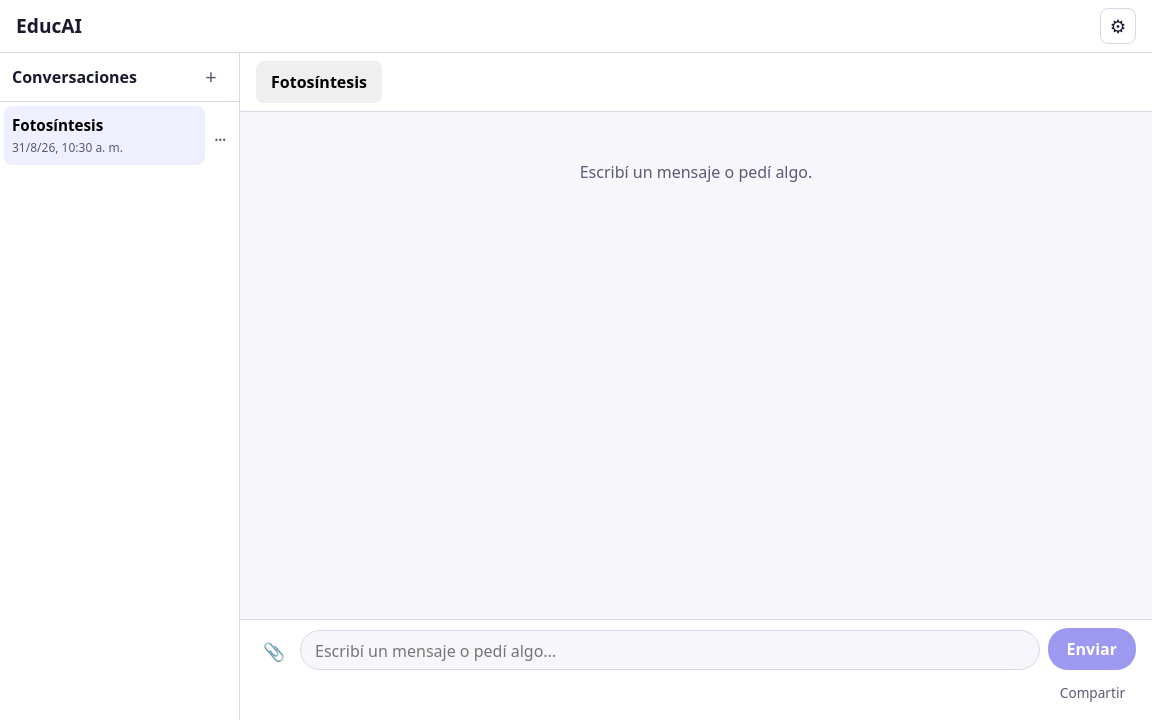
Test: App › shows the empty state after deleting the last conversation
The image size is (1152, 720).
Expected: the heading "Fotosíntesis" is shown, top-left (256, 61), bottom-right (382, 103)
Step 1. Click the button named "Opciones de conversación" → point(220, 135), box top-left (205, 121), bottom-right (235, 149)
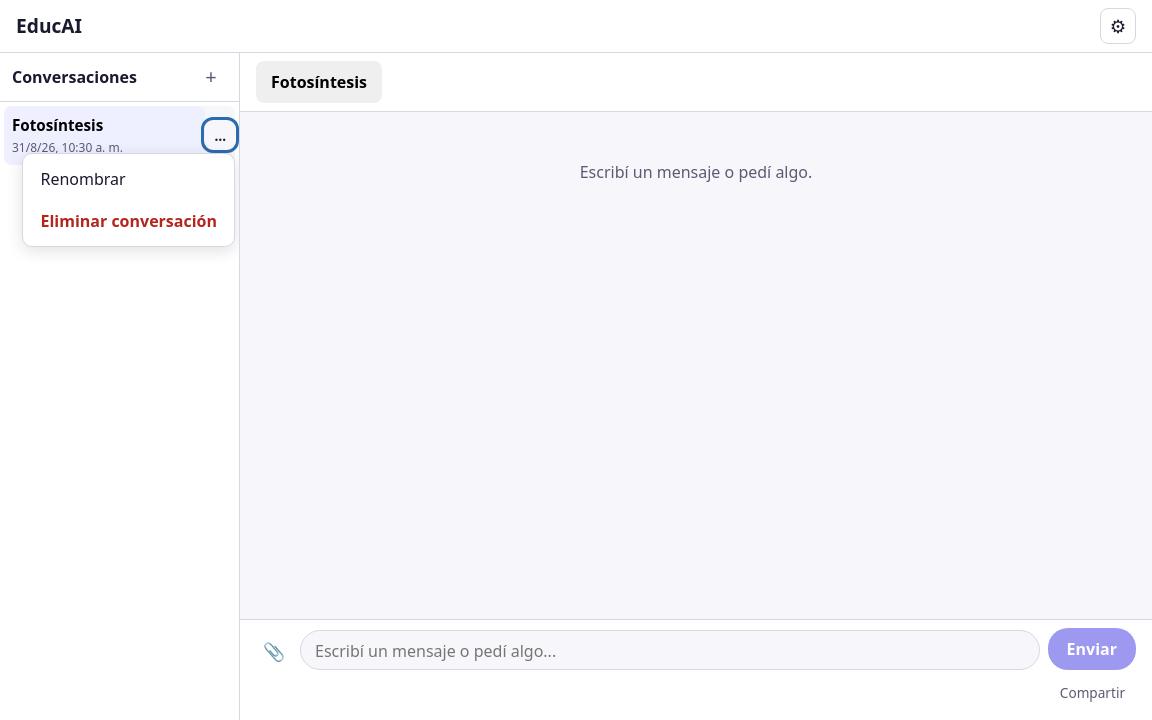
Step 2. Click the menu item "Eliminar conversación" → point(129, 221), box top-left (28, 200), bottom-right (230, 242)
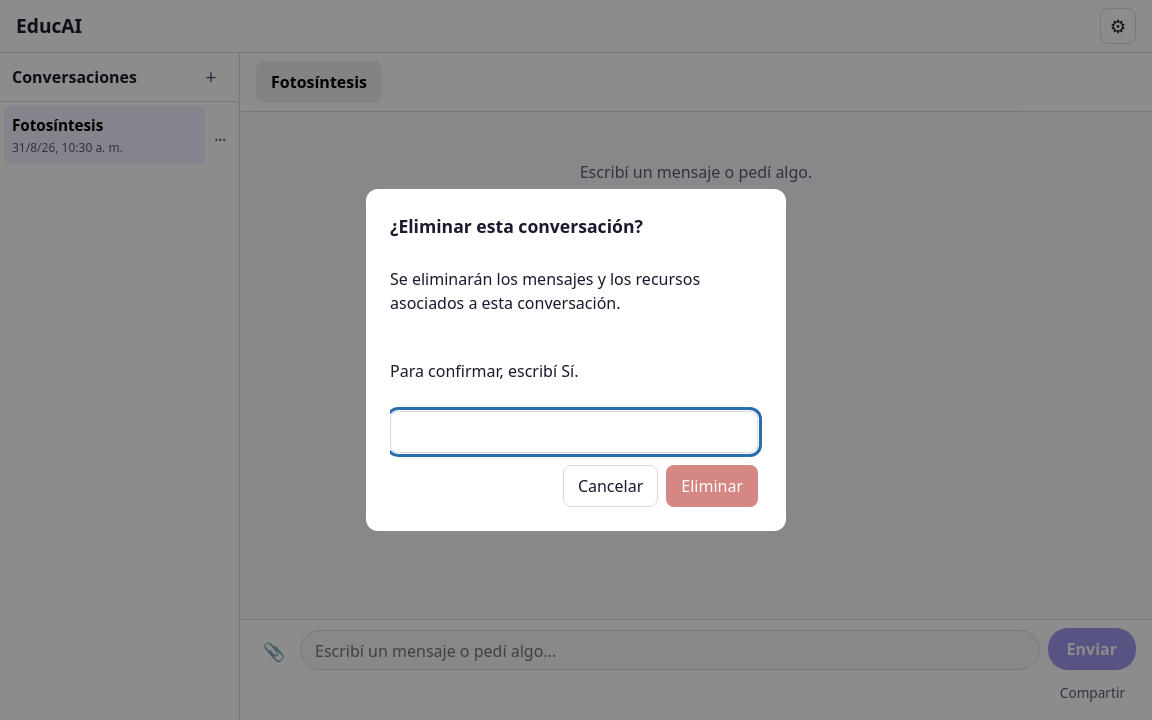
Step 3. Type "Sí" into the field named "Confirmación" → point(574, 432), box top-left (390, 411), bottom-right (758, 453)
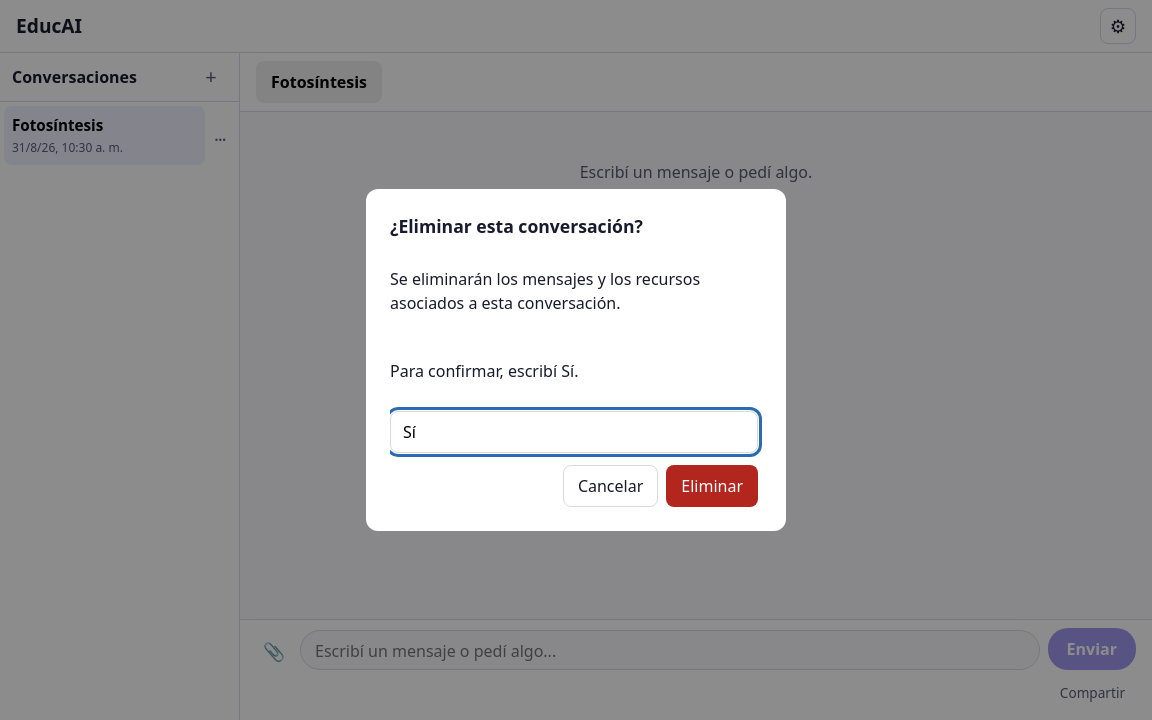
Step 4. Click the button "Eliminar" → point(712, 486), box top-left (666, 465), bottom-right (758, 507)
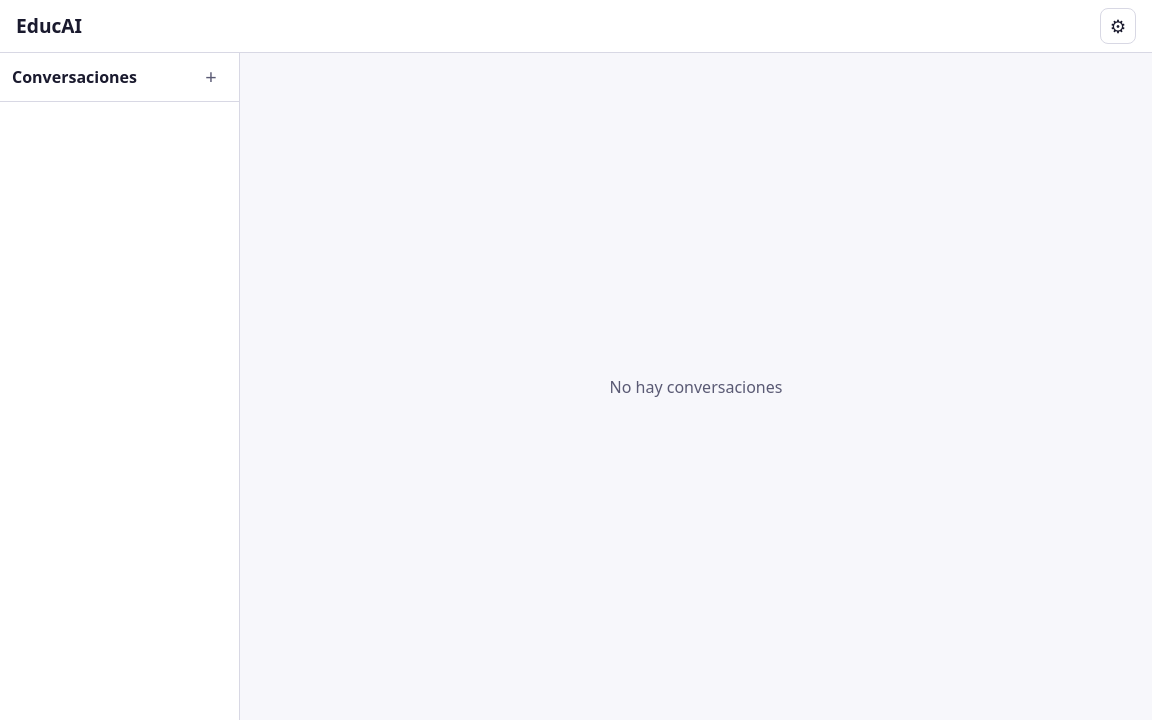
Result: the button "Fotosíntesis" is gone
Result: the element with class "conversation-placeholder" is shown at top-left (610, 376), bottom-right (782, 398)
